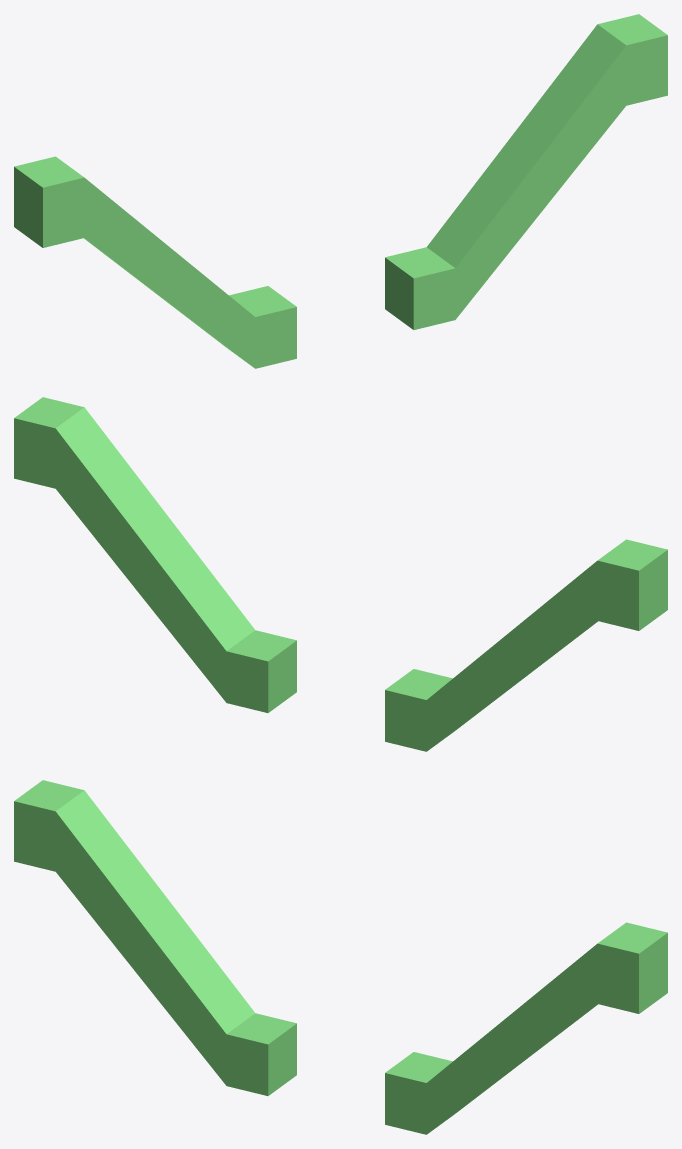
The picture shows the model from 3 angles, top to bottom: view 1: azimuth 30°, elevation 25°; view 2: azimuth 150°, elevation 25°; view 3: azimuth 330°, elevation 25°; orthographic projection.
Visible parts, largest first — view 1: エスカレーター.029, エスカレーター.028; view 2: エスカレーター.029, エスカレーター.028; view 3: エスカレーター.028, エスカレーター.029.
Boxes of the visible parts, left/top/right/bottom form: エスカレーター.029: left=385, top=14, right=667, bottom=329; エスカレーター.028: left=14, top=156, right=296, bottom=368; エスカレーター.029: left=14, top=397, right=296, bottom=712; エスカレーター.028: left=385, top=539, right=667, bottom=751; エスカレーター.028: left=14, top=780, right=296, bottom=1095; エスカレーター.029: left=385, top=922, right=667, bottom=1134.
Bounding box in the file's own units: 3000 × 1069 × 240.
